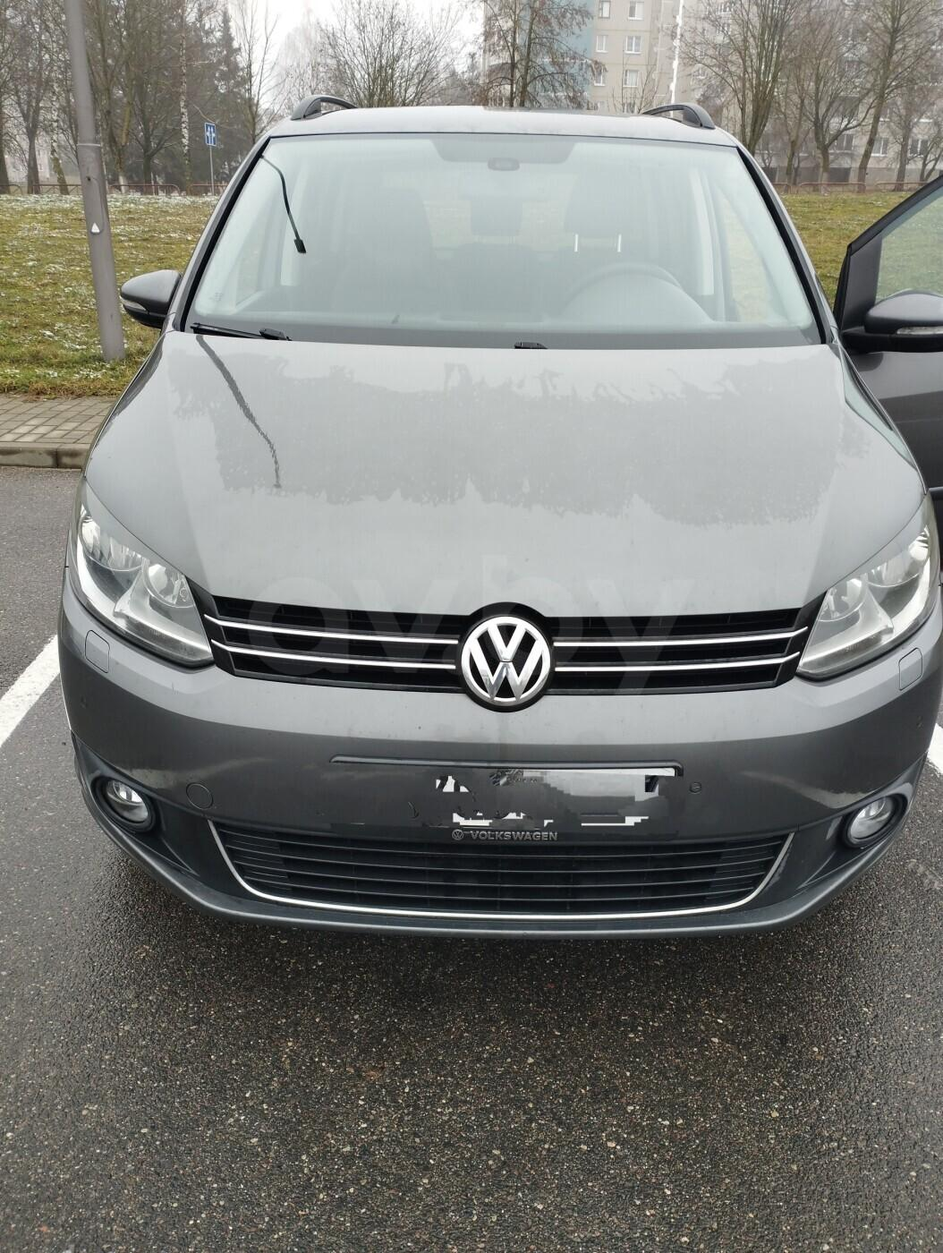Touran_2010-2015: (50, 90, 943, 956)
